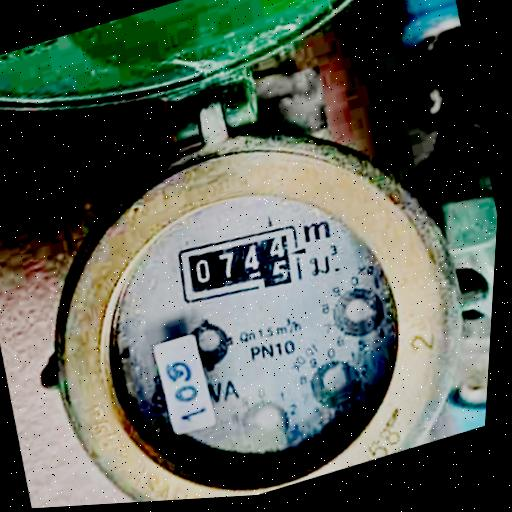0: (183, 249, 221, 295)
4: (252, 232, 296, 291), (228, 238, 268, 286)
7: (206, 244, 244, 290)
border_water_meter_number: (168, 215, 309, 318)
